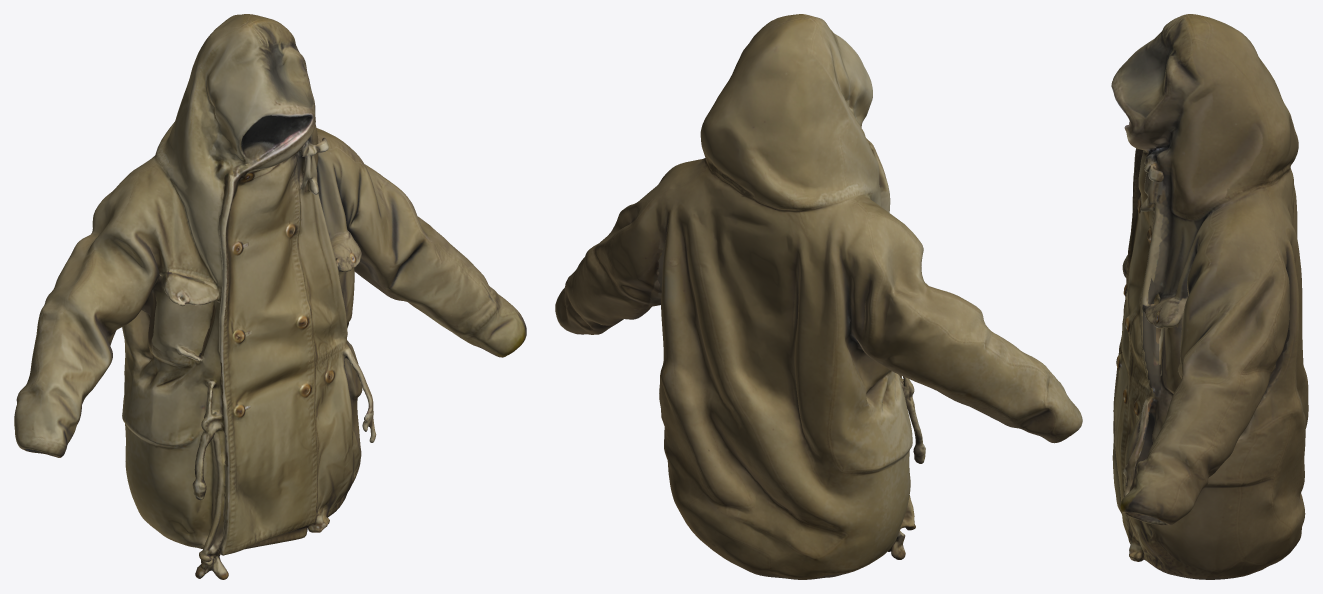
Rendered from trench_wear copia.glb.
3 views of the same model, side by side, from view 1: azimuth 30°, elevation 25°; view 2: azimuth 150°, elevation 25°; view 3: azimuth 270°, elevation 25° (orthographic). The views are drawn at different scales.
Parts seen in each view (by area): view 1: temp_mesh.ply_1; view 2: temp_mesh.ply_1; view 3: temp_mesh.ply_1.
Part boxes in pixels (box(x1,y1,x2,y2)): temp_mesh.ply_1: box(14, 14, 526, 579); temp_mesh.ply_1: box(555, 14, 1082, 579); temp_mesh.ply_1: box(1111, 14, 1308, 579).
Bounding box in the file's own units: 1.97 × 1.97 × 0.6416.
1 material, 1 textured.
